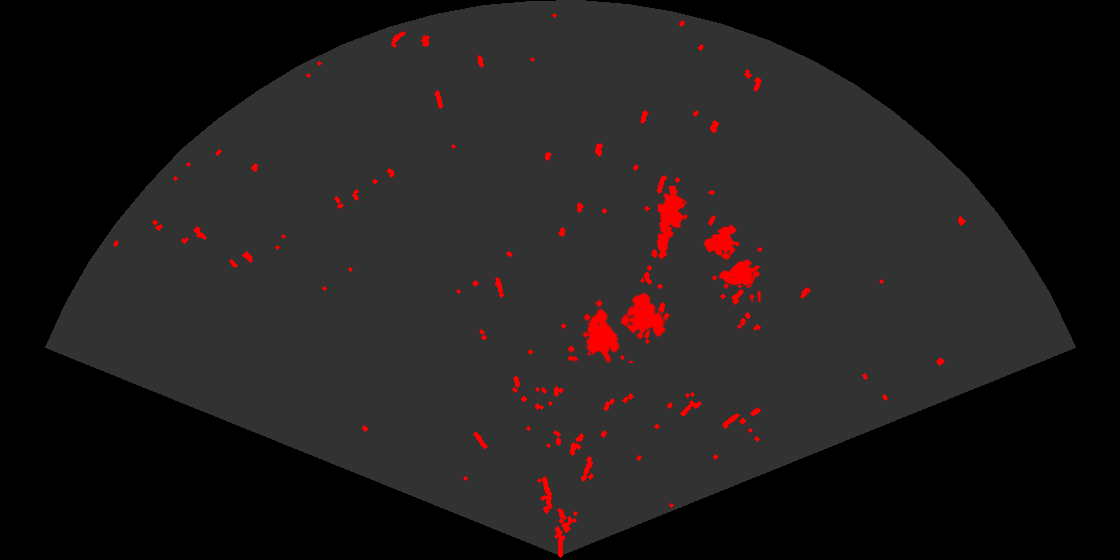cage: (568, 291, 668, 363), (702, 223, 762, 302)
frogman: (655, 186, 690, 261)
